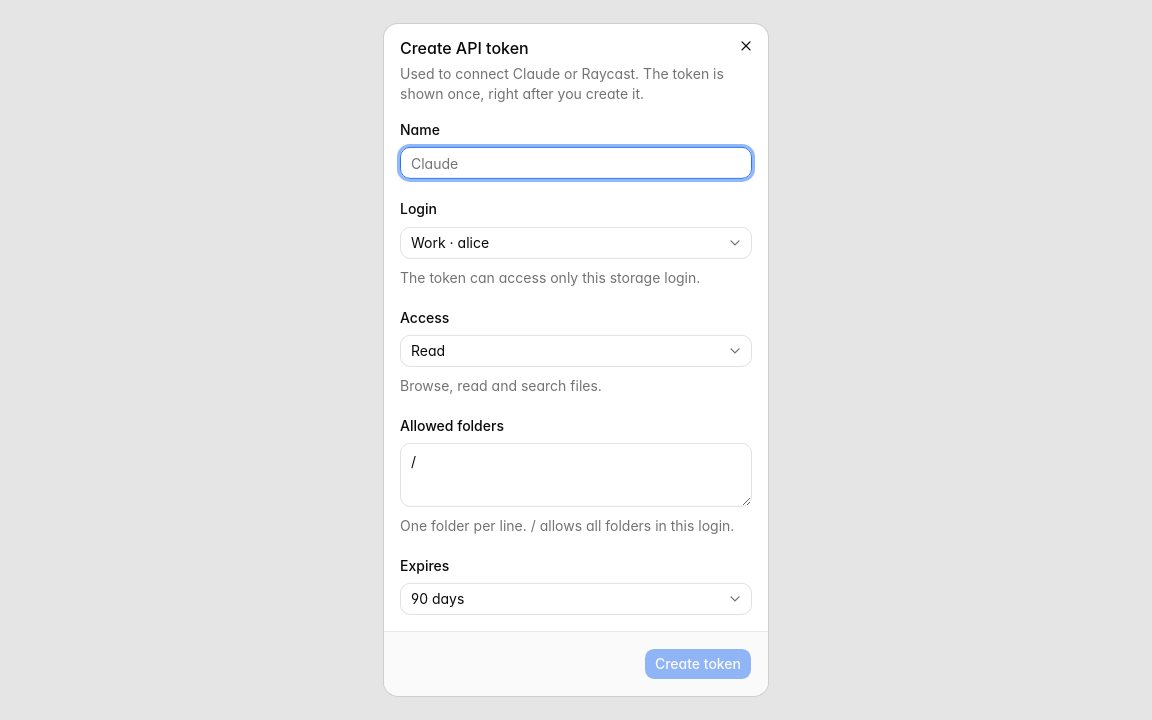
it: keeps invalid folder grants in the form instead of creating a token
In the field labelled "Name": (576, 163) [400, 147, 752, 179], type "Assistant"
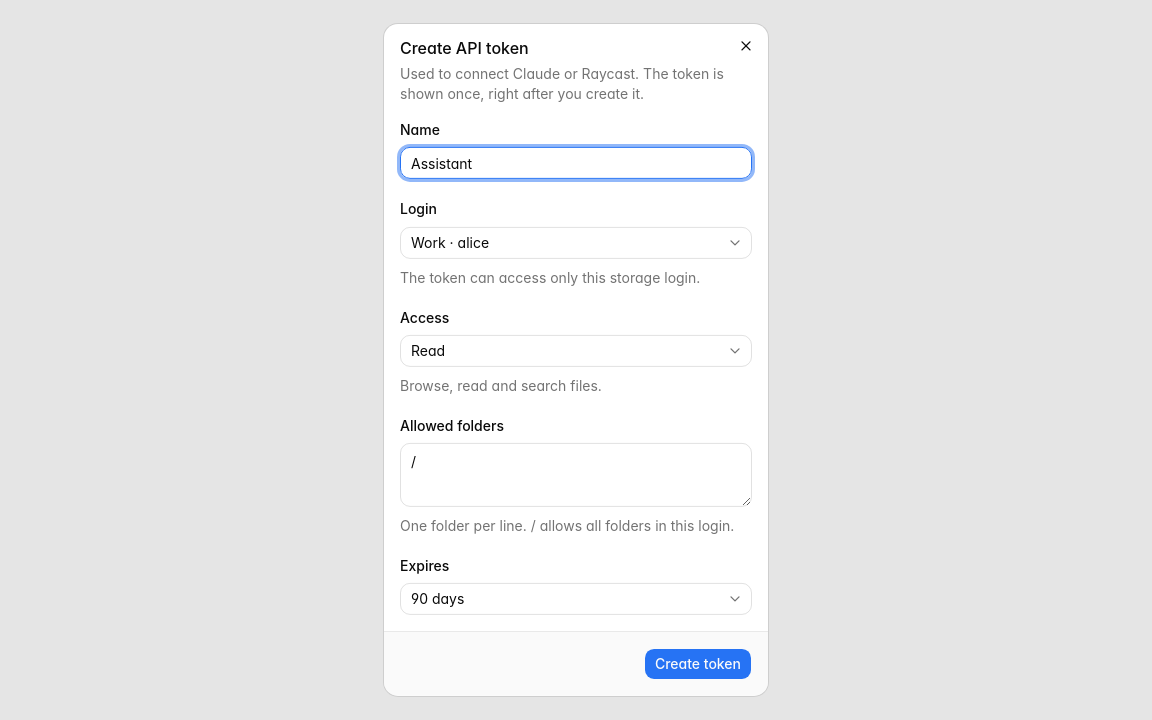
Replace the text in the text box labelled "Allowed folders" with "relative": (576, 475) [400, 443, 752, 507]
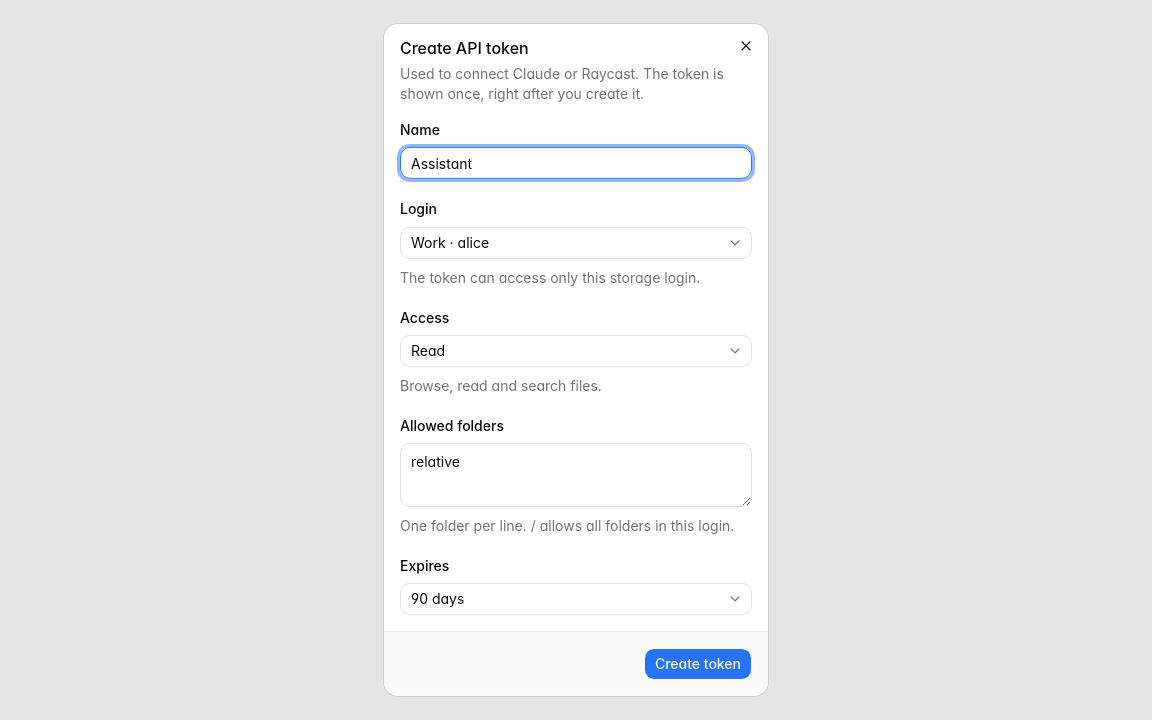
Press Enter in the field labelled "Name", box [400, 147, 752, 179]
Click the submit button: (698, 664) [644, 648, 752, 680]
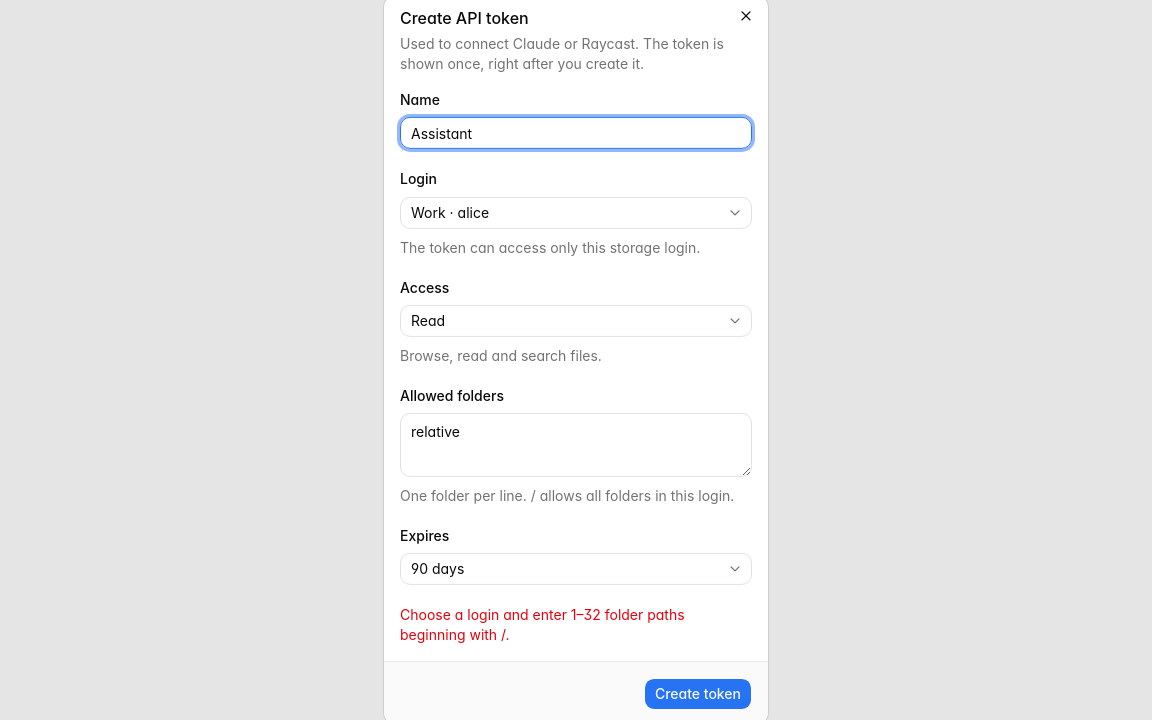
Expected: the text "Choose a login and enter 1–32 folder paths beginning with /." is shown, [400, 606, 685, 643]
